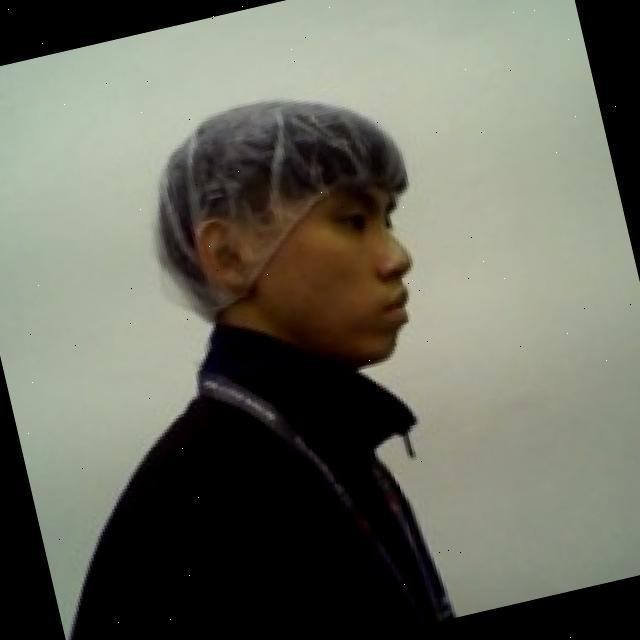gloves: (116, 66, 433, 323)
no_hairnet: (184, 172, 442, 408)
